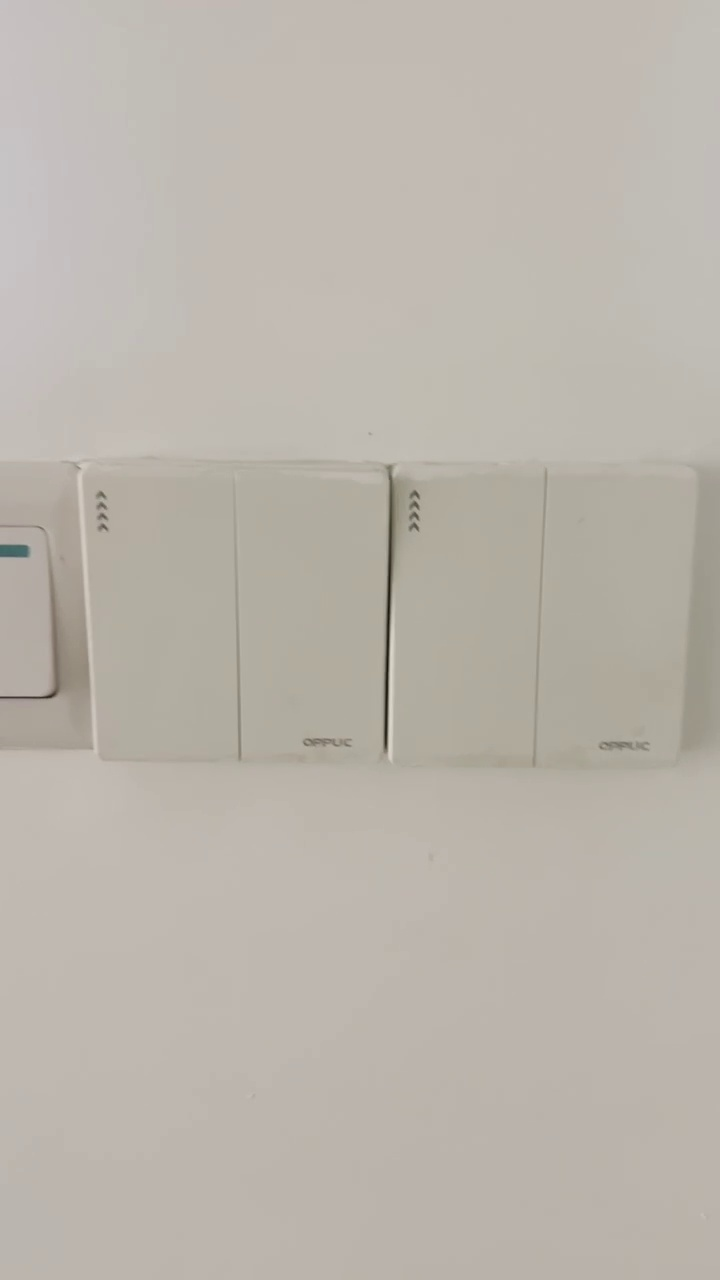button1: (88, 462, 238, 755), (540, 473, 687, 763), (394, 470, 538, 763), (243, 471, 382, 758)
